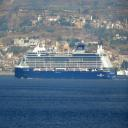cruises: (13, 37, 119, 82)
